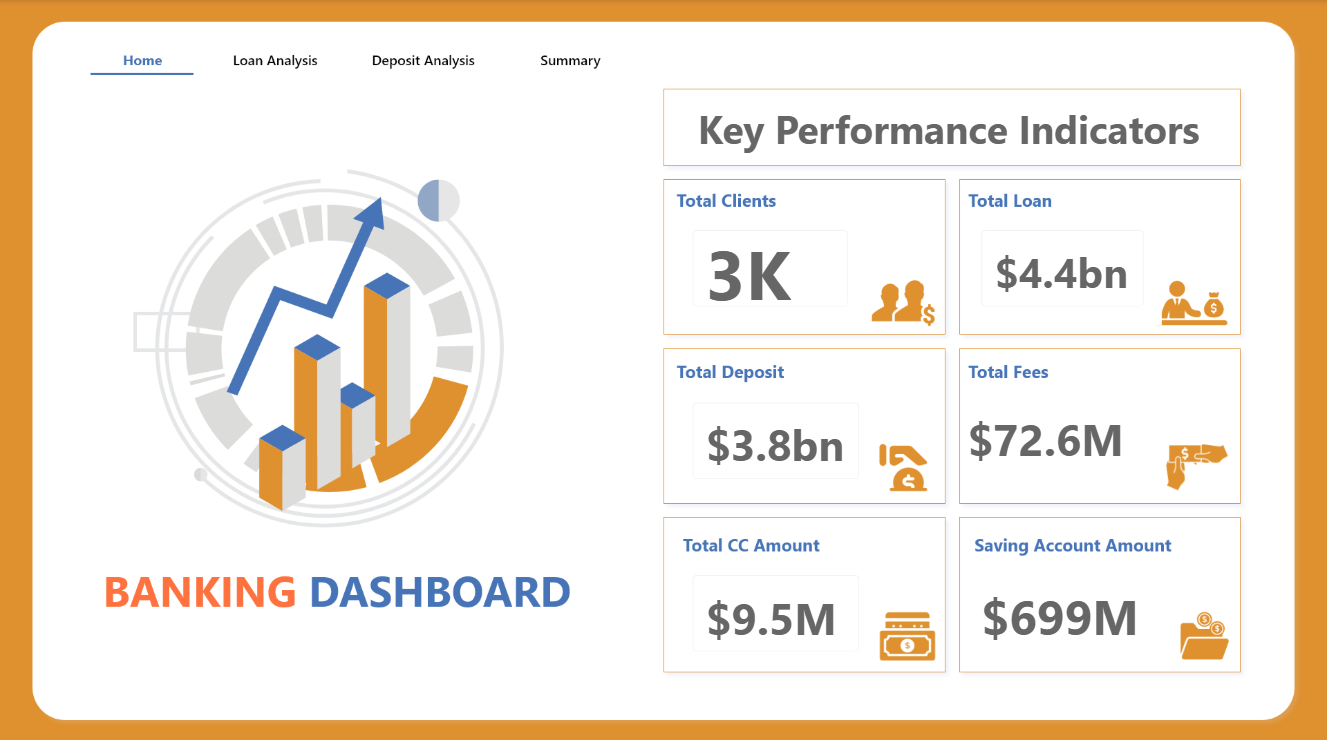

This screenshot's page, from the dashboard's own definition file:
{"tool":"powerbi","page":{"name":"Home","canvas":[1280,720],"ordinal":0},"visuals":[{"type":"cardVisual","fields":{"Data":["CountNonNull(project bank.Name)"]},"box":[651.4,204.8,184.9,108.1],"z":0},{"type":"textbox","box":[668,93.8,520.8,62],"z":1000},{"type":"cardVisual","fields":{"Data":["Sum(project bank.Saving Accounts)"]},"box":[929.6,538.2,191.1,108.6],"z":2000},{"type":"cardVisual","fields":{"Data":["project bank.Total Deposit"]},"box":[651.3,371.5,195.7,108.6],"z":3000},{"type":"cardVisual","fields":{"Data":["project bank.Total Loan"]},"box":[929.6,204.9,191.1,108.6],"z":4000},{"type":"cardVisual","fields":{"Data":["Sum(project bank.Credit Card Balance)"]},"box":[651.3,538.2,195.7,108.6],"z":5000},{"type":"textbox","box":[929.2,388.5,181.1,90.5],"z":5001},{"type":"actionButton","box":[216,38.6,100.1,39.8],"z":5003},{"type":"actionButton","box":[358.3,38.6,100.1,39.8],"z":5004},{"type":"actionButton","box":[501.9,38.6,100.1,39.8],"z":5005}]}

Visuals, with their boxes in screenshot pixels (x1, y1, x2, y2), scaled from the page's 1280x720 canvas onto the 1327x740 screenshot:
cardVisual - CountNonNull(project bank.Name): [left=675, top=210, right=867, bottom=322]
textbox: [left=693, top=96, right=1232, bottom=160]
cardVisual - Sum(project bank.Saving Accounts): [left=964, top=553, right=1162, bottom=665]
cardVisual - project bank.Total Deposit: [left=675, top=382, right=878, bottom=493]
cardVisual - project bank.Total Loan: [left=964, top=211, right=1162, bottom=322]
cardVisual - Sum(project bank.Credit Card Balance): [left=675, top=553, right=878, bottom=665]
textbox: [left=963, top=399, right=1151, bottom=492]
actionButton: [left=224, top=40, right=328, bottom=81]
actionButton: [left=371, top=40, right=475, bottom=81]
actionButton: [left=520, top=40, right=624, bottom=81]
